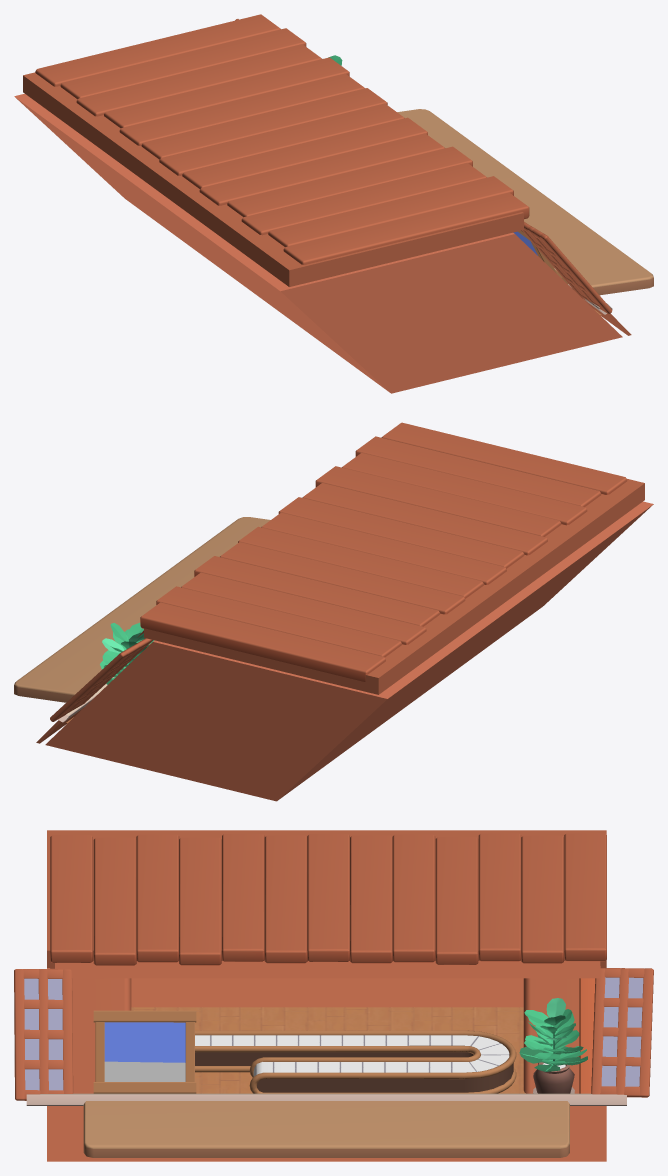
The model's file is MapCoffeehouse_2.fbx.
3 views of the same model, one above another, from view 1: azimuth 30°, elevation 25°; view 2: azimuth 150°, elevation 25°; view 3: azimuth 270°, elevation 25° (orthographic). The views are drawn at different scales.
Visible parts, largest first — view 1: polySurface325, nha, nha7, bantrado, cuasoche1; view 2: polySurface325, nha, nha7, bantrado, cuasoche, tree; view 3: polySurface325, bantrado, nha, sweep3, san, bantrado1, bang, cuasoche, cuasoche1, polySurface307, nha7, tree (+3 smaller).
Boxes of the visible parts, bbox=[...] form: polySurface325: bbox=[35, 14, 529, 264]; nha: bbox=[14, 93, 631, 393]; nha7: bbox=[23, 72, 523, 286]; bantrado: bbox=[397, 109, 653, 295]; cuasoche1: bbox=[522, 222, 612, 313]; polySurface325: bbox=[140, 422, 627, 681]; nha: bbox=[36, 501, 653, 801]; nha7: bbox=[144, 479, 644, 694]; bantrado: bbox=[14, 517, 270, 702]; cuasoche: bbox=[50, 638, 152, 721]; tree: bbox=[100, 622, 153, 684]; polySurface325: bbox=[50, 833, 606, 965]; bantrado: bbox=[83, 1101, 569, 1157]; nha: bbox=[26, 968, 626, 1161]; sweep3: bbox=[195, 1030, 516, 1093]; san: bbox=[131, 1007, 525, 1093]; bantrado1: bbox=[55, 961, 600, 978]; bang: bbox=[93, 1010, 196, 1093]; cuasoche: bbox=[591, 968, 653, 1097]; cuasoche1: bbox=[14, 969, 73, 1100]; polySurface307: bbox=[195, 1035, 509, 1076]; nha7: bbox=[47, 830, 606, 968]; tree: bbox=[519, 998, 587, 1093].
Bounding box in the file's own units: 107 × 39.48 × 143.
7 materials, 3 textured.
